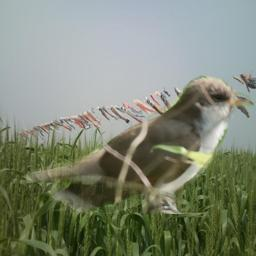Cuckoo: (26, 75, 254, 214)
